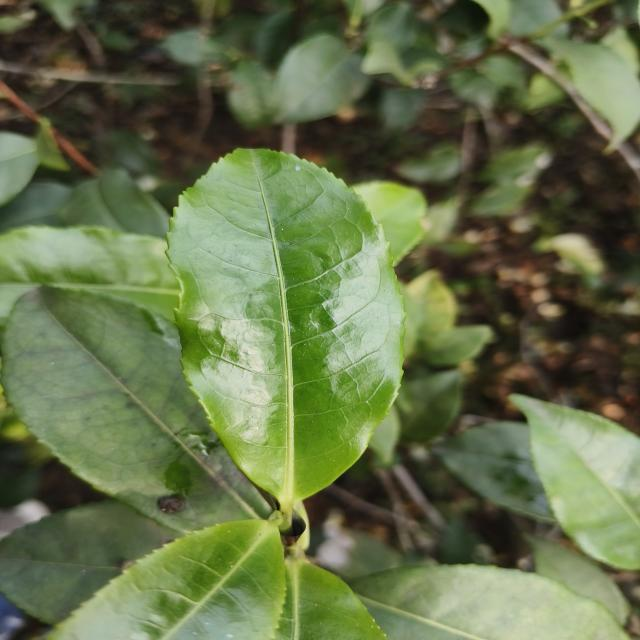Leaf: (168, 149, 404, 512), (2, 287, 269, 533), (51, 520, 285, 640), (510, 394, 640, 569), (0, 500, 178, 624), (350, 564, 626, 640), (0, 226, 179, 333), (434, 422, 554, 521), (544, 38, 640, 146), (525, 534, 629, 625), (274, 556, 385, 640), (275, 34, 369, 123), (60, 169, 169, 238), (352, 181, 427, 266), (396, 369, 463, 442), (405, 269, 457, 337), (227, 60, 276, 128), (0, 132, 39, 206), (425, 325, 492, 367), (161, 29, 230, 67), (379, 88, 426, 130), (477, 55, 524, 88)
